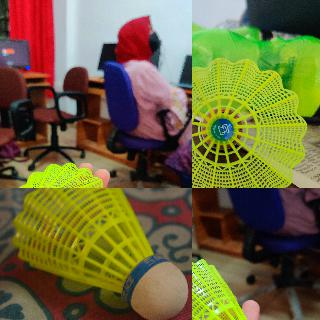shuttlecock: (13, 188, 190, 319), (192, 57, 306, 187), (192, 257, 287, 319), (11, 163, 112, 187)
